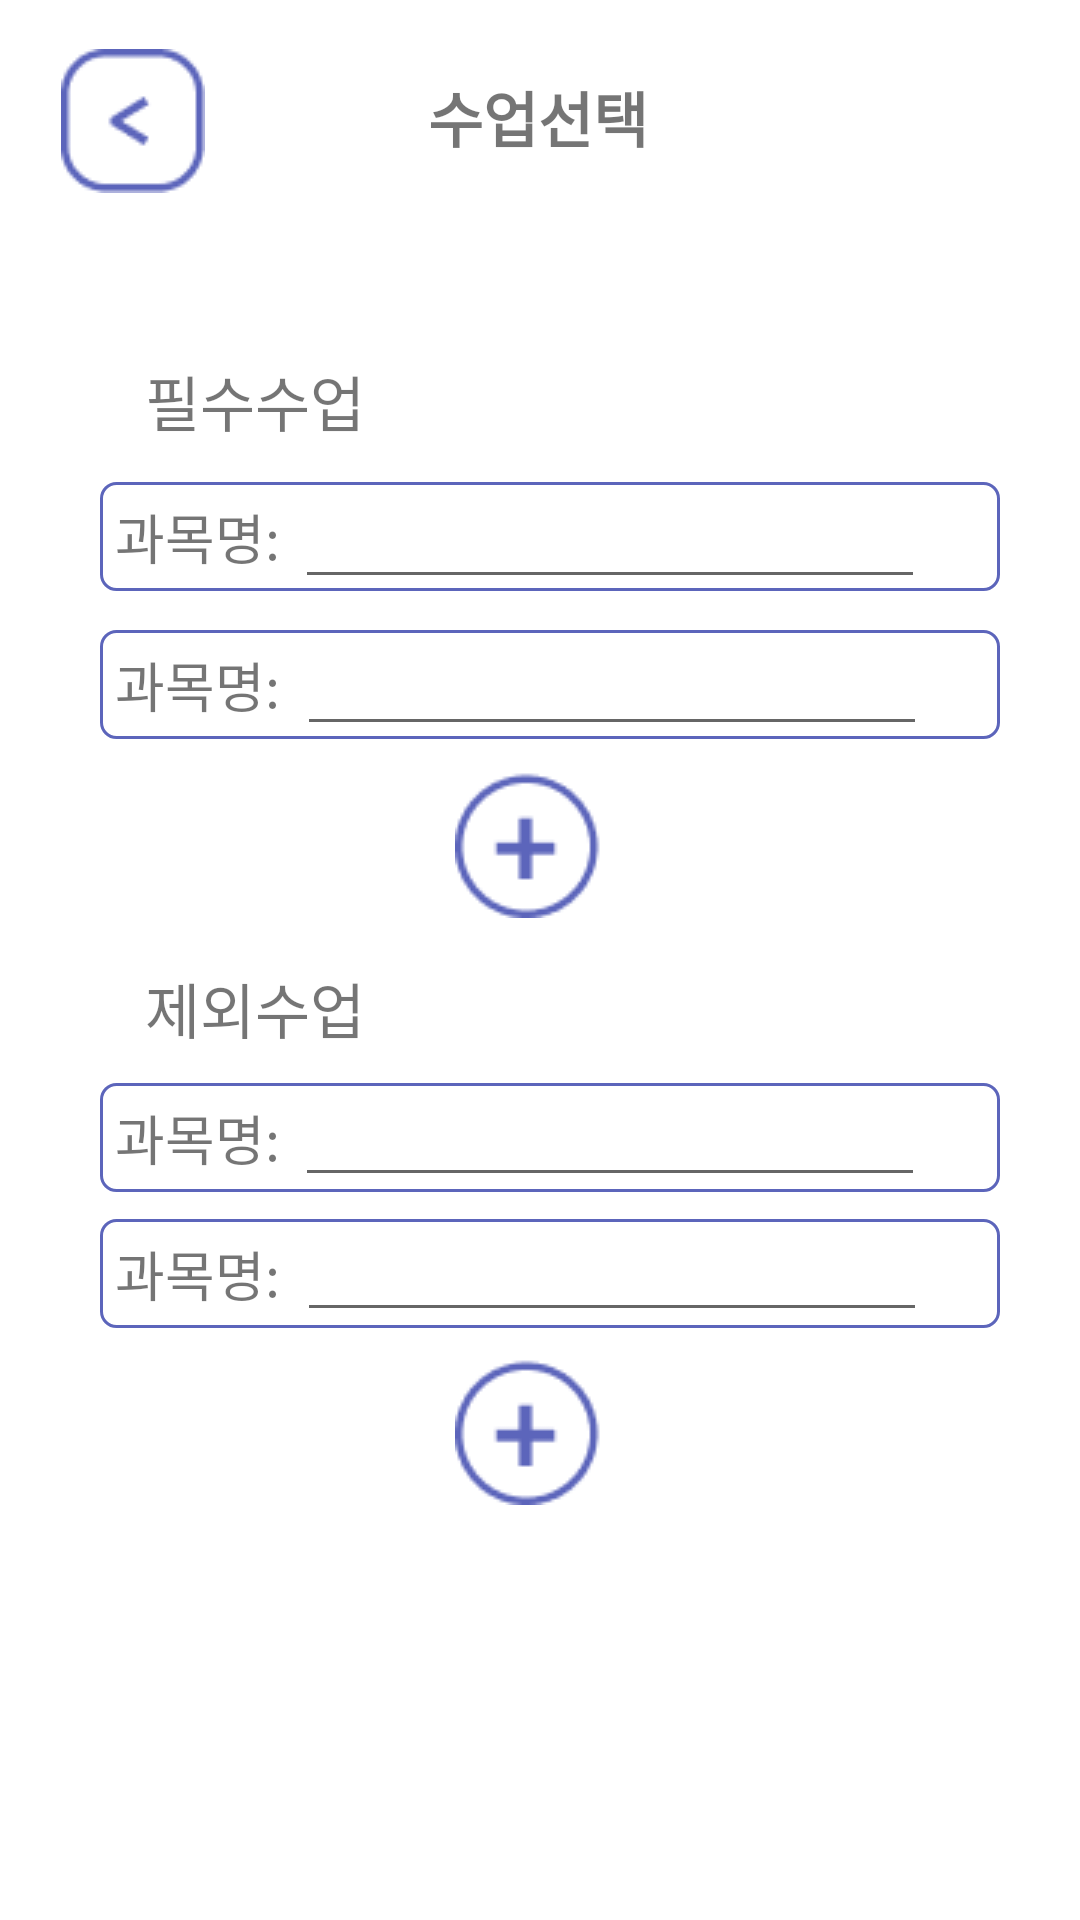

Icons on this 1080 × 1920 Android screen, each with its box as (x1, y1, x2, y2):
add: (455, 773, 600, 918), (455, 1360, 600, 1505)
prev: (61, 49, 205, 193)
